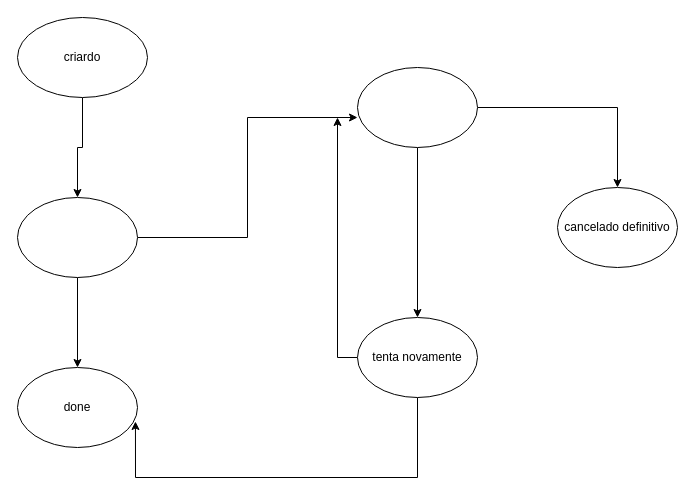
Image size: 695x503. Some labels were removed from this diagram. The centre of each missing label's shape, as x and y in pixels:
falhou: (x=417, y=107)
to be delivery: (x=77, y=237)
